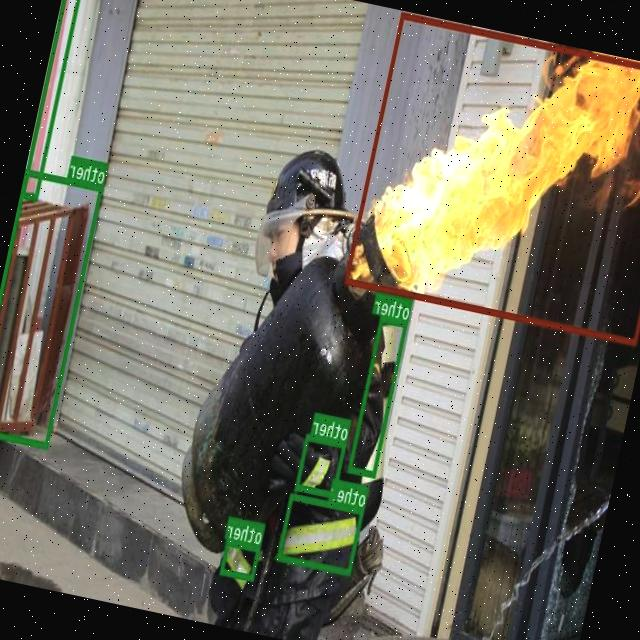fire: (345, 10, 640, 344)
